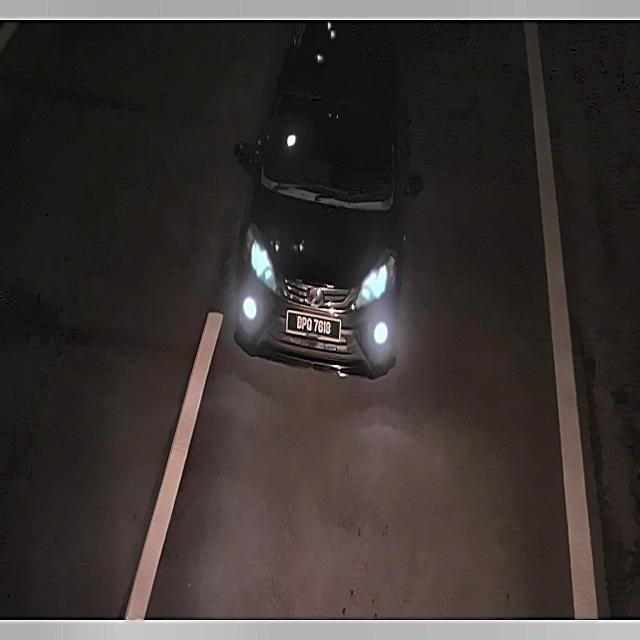car: (284, 306, 342, 350)
